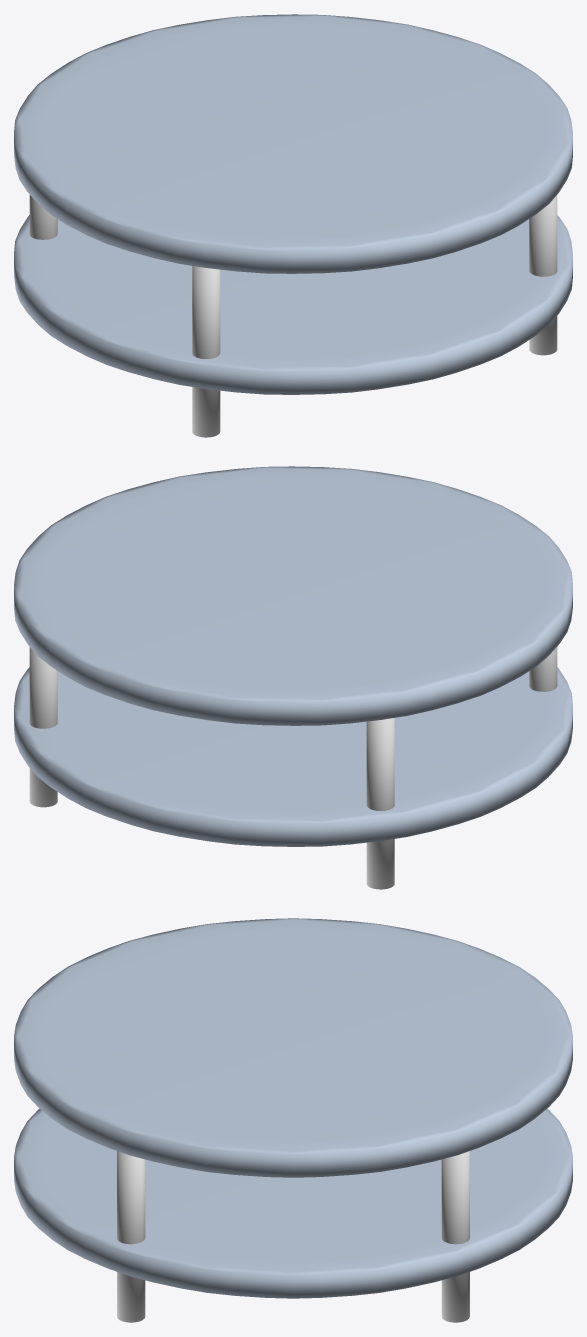
The model's file is CoffeeTAble.fbx.
3 renders of one model, top to bottom at view 1: azimuth 30°, elevation 25°; view 2: azimuth 150°, elevation 25°; view 3: azimuth 270°, elevation 25°, orthographic.
Visible parts, largest first — view 1: Cylinder; view 2: Cylinder; view 3: Cylinder.
Part boxes in pixels (left/top/right/bottom): Cylinder: left=14, top=14, right=572, bottom=437; Cylinder: left=14, top=466, right=572, bottom=889; Cylinder: left=14, top=918, right=572, bottom=1322.
Bounding box in the file's own units: 741 × 741 × 292.
